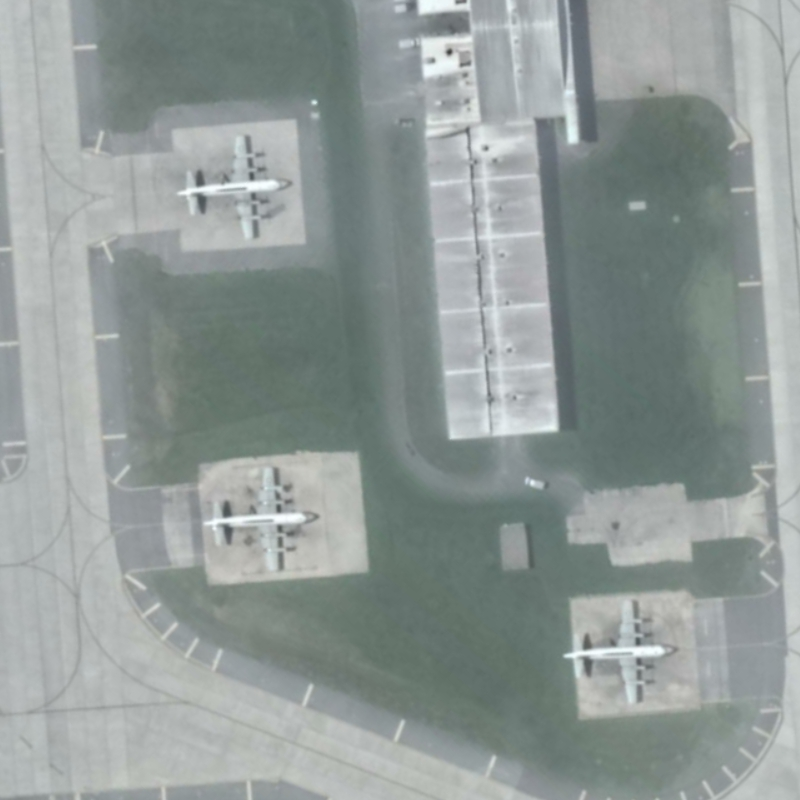A9: (168, 130, 299, 251), (197, 458, 321, 580), (556, 592, 679, 711)
